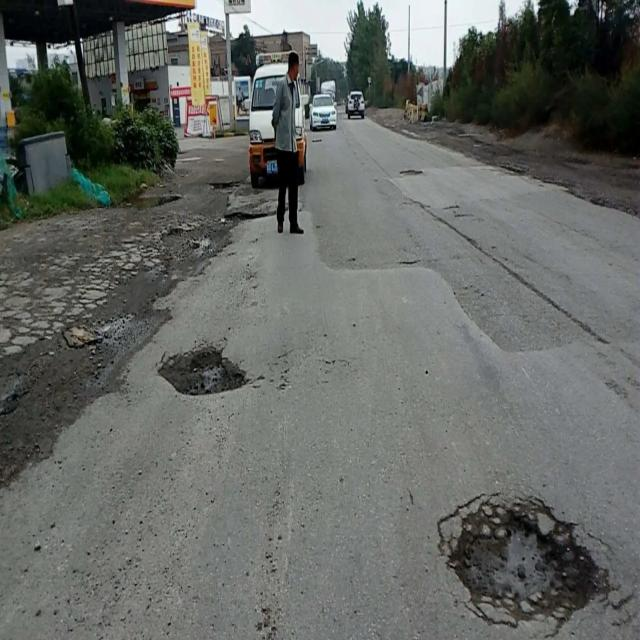Pothole: (440, 488, 604, 621), (155, 346, 251, 396)
